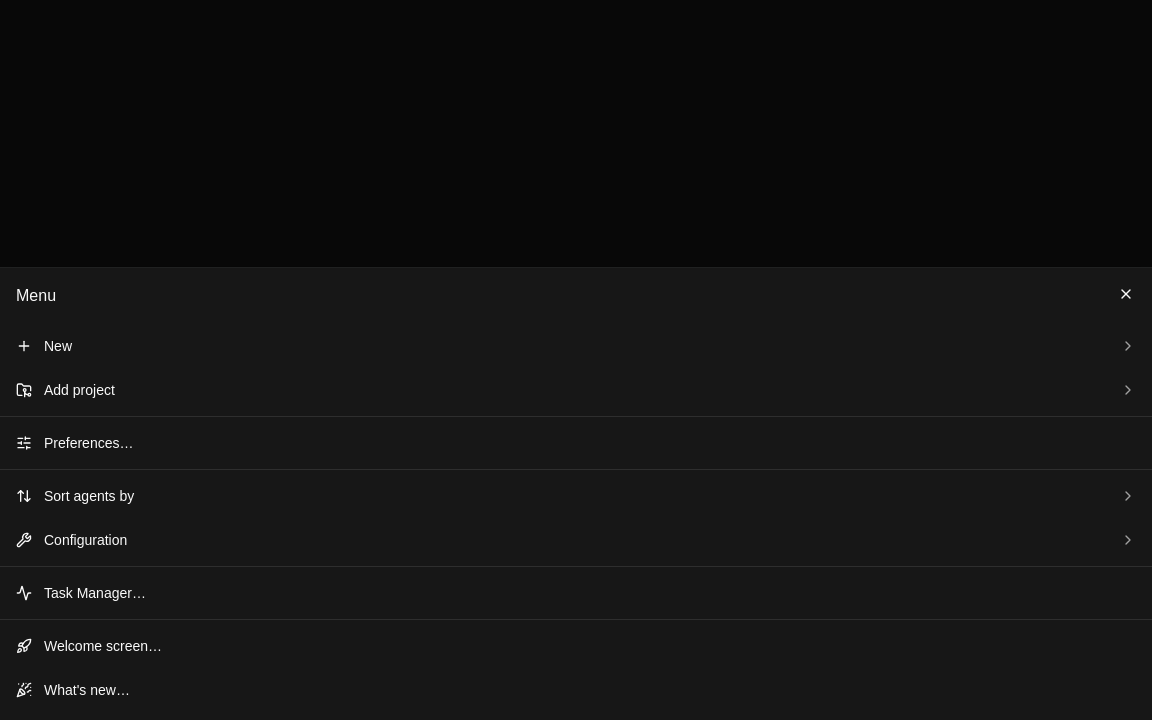
Scenario: AppMenuSheet › shows the submenu title as the drilled-down header
The image size is (1152, 720).
Click the menu item "Sort agents by" at {"x": 89, "y": 496}, box [0, 474, 1151, 518]
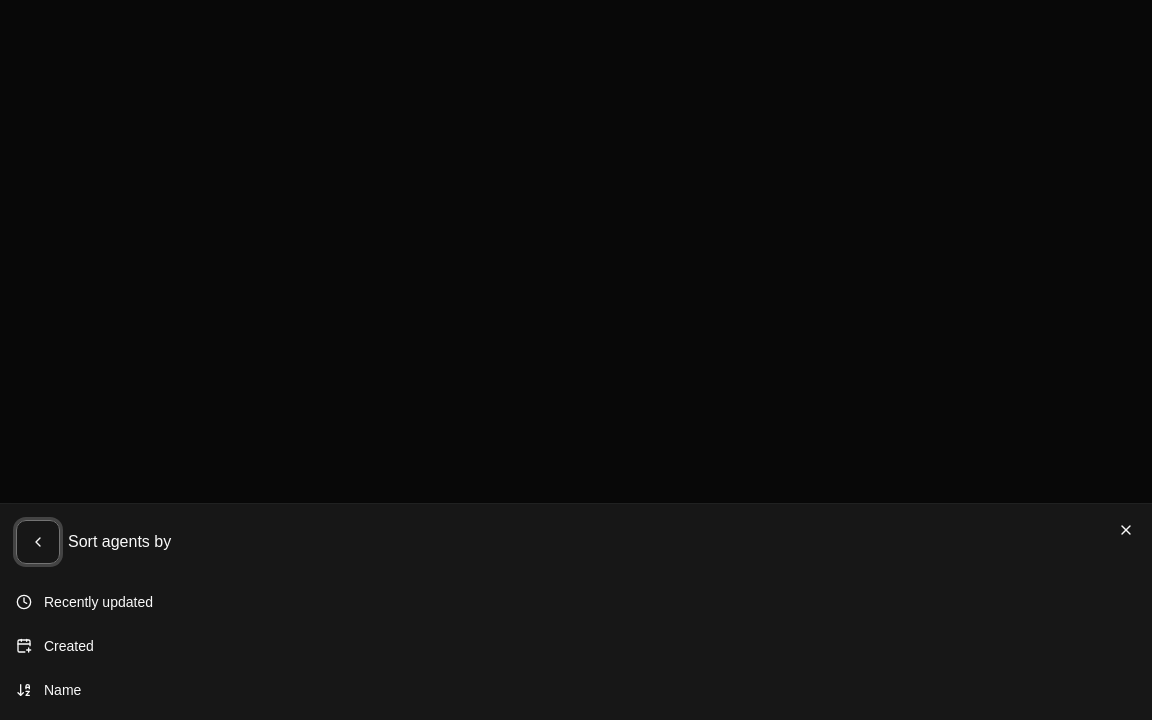
Now the heading "Sort agents by" is shown, box [68, 530, 171, 554]
Now the text "Recently updated" is shown, box [44, 594, 153, 610]
